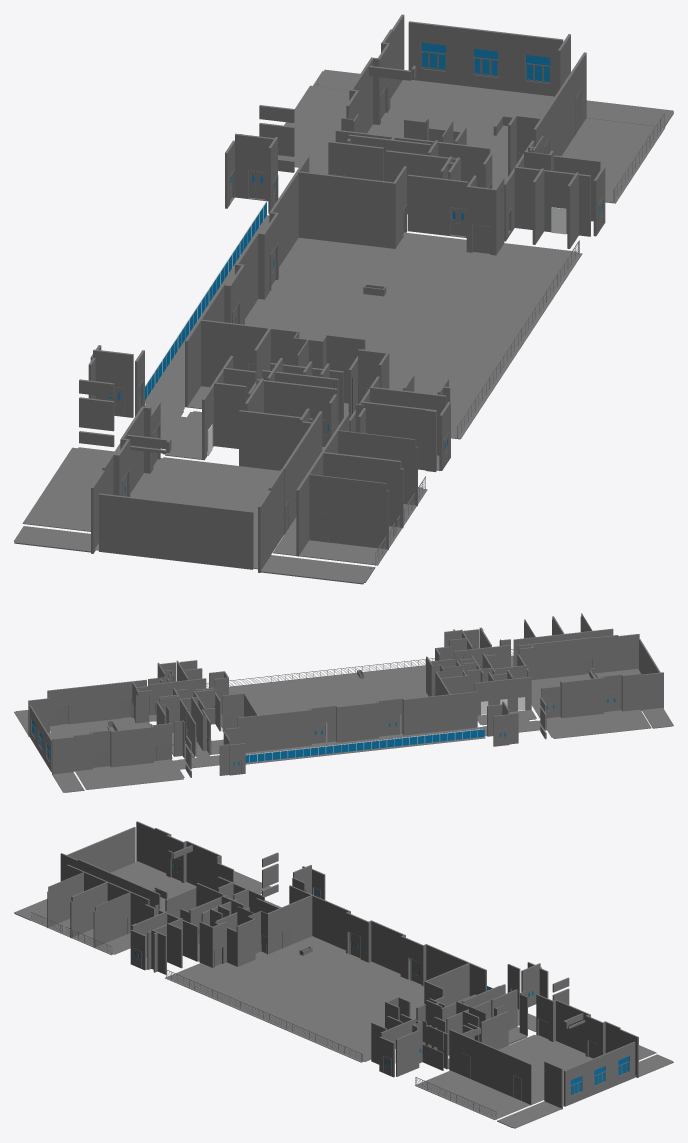
File: 前海法治大厦_A.fbx
3 renders of one model, top to bottom at view 1: azimuth 30°, elevation 25°; view 2: azimuth 150°, elevation 25°; view 3: azimuth 270°, elevation 25°, orthographic. The views are drawn at different scales.
Visible parts, largest first — view 1: Wall, Floor, Rail; view 2: Wall, Floor, Rail, FM甲2030, FM甲2330; view 3: Wall, Floor, Rail.
Part boxes in pixels (<box>): Wall: <box>79,14,605,572</box>; Floor: <box>14,69,673,584</box>; Rail: <box>375,112,664,565</box>; Wall: <box>28,613,663,777</box>; Floor: <box>14,655,673,792</box>; Rail: <box>206,649,513,687</box>; FM甲2030: <box>604,691,618,711</box>; FM甲2330: <box>386,714,400,735</box>; Wall: <box>47,821,638,1109</box>; Floor: <box>14,861,673,1128</box>; Rail: <box>31,912,496,1119</box>.
Bounding box in the file's own units: 81271 × 5950 × 80509.
